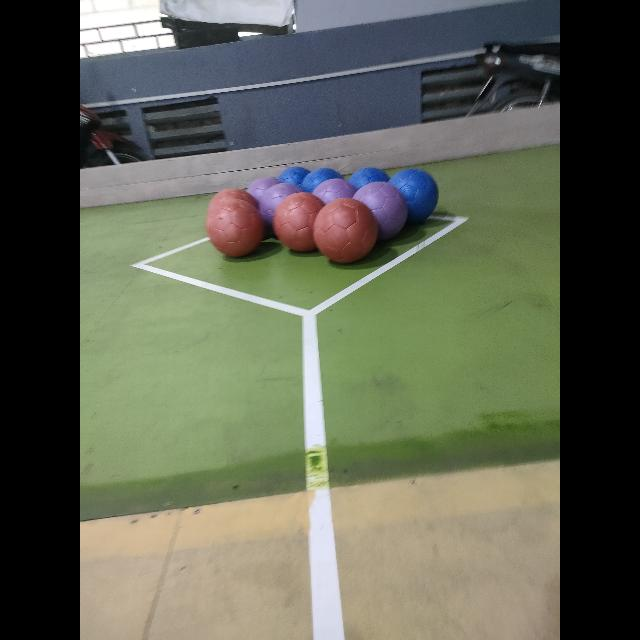B: (388, 169, 438, 223), (300, 168, 342, 192), (349, 167, 389, 189)
P: (352, 182, 408, 240), (258, 183, 302, 227), (314, 178, 356, 204)
R: (313, 198, 377, 262), (206, 204, 264, 256), (278, 196, 330, 254)
